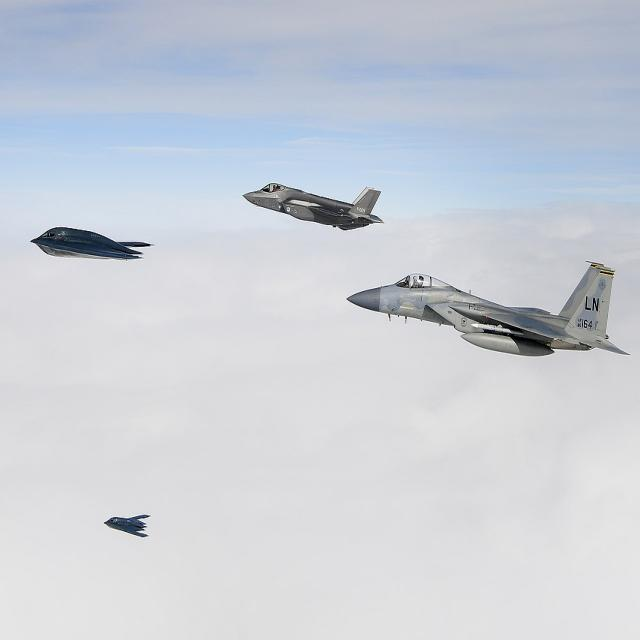MIL_Plane: (346, 260, 630, 356), (242, 182, 384, 230), (29, 99, 156, 132), (103, 520, 151, 532)
